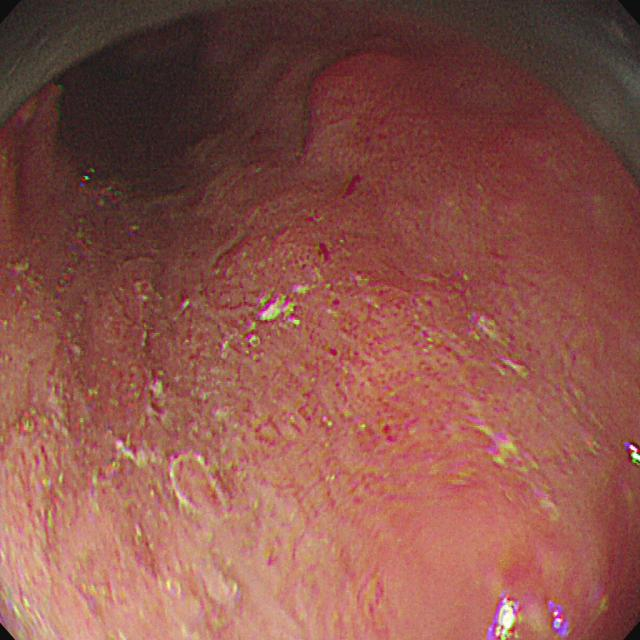A: (312, 292, 450, 497)
J: (475, 314, 530, 469), (217, 278, 316, 350)
U: (490, 594, 523, 640), (552, 609, 566, 634), (627, 441, 640, 467)
